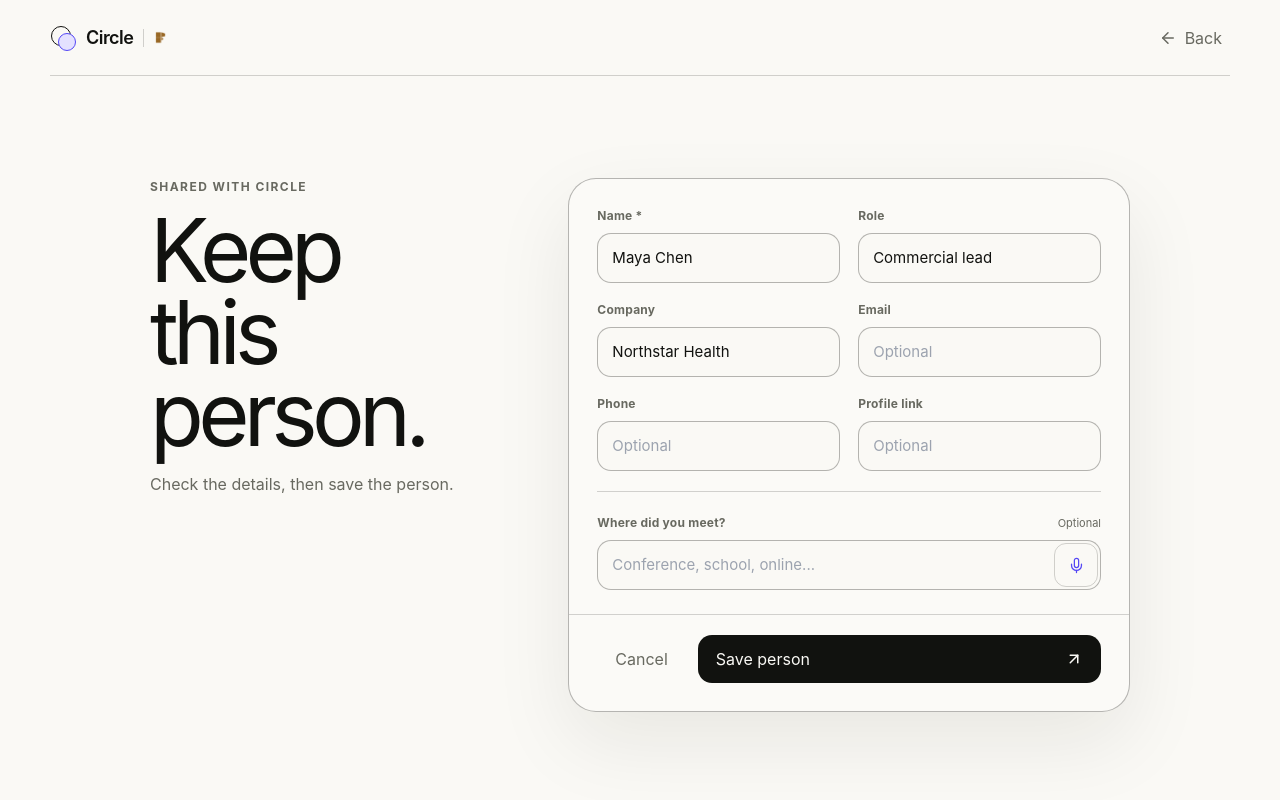
Test case: ShareContact › does not ask the user to save the person twice when meeting context fails
The width and height of the screenshot is (1280, 800).
Expected: the heading "Keep this person." is shown, x1=150 y1=210 x2=466 y2=456
In the field labelled "Where did you meet?": (849, 565) x1=597 y1=540 x2=1101 y2=590, type "HealthTech North"
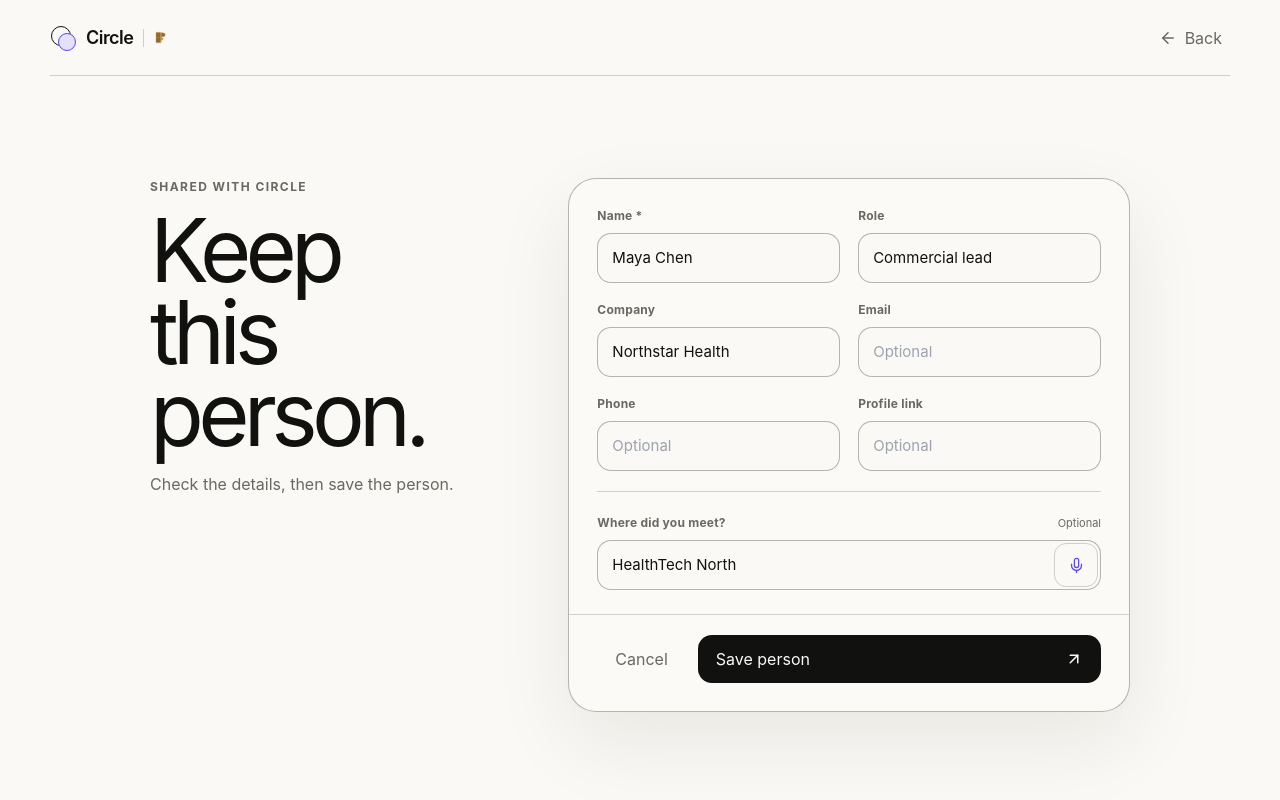
Click the button "Save person": click(763, 659) x1=698 y1=635 x2=1101 y2=683
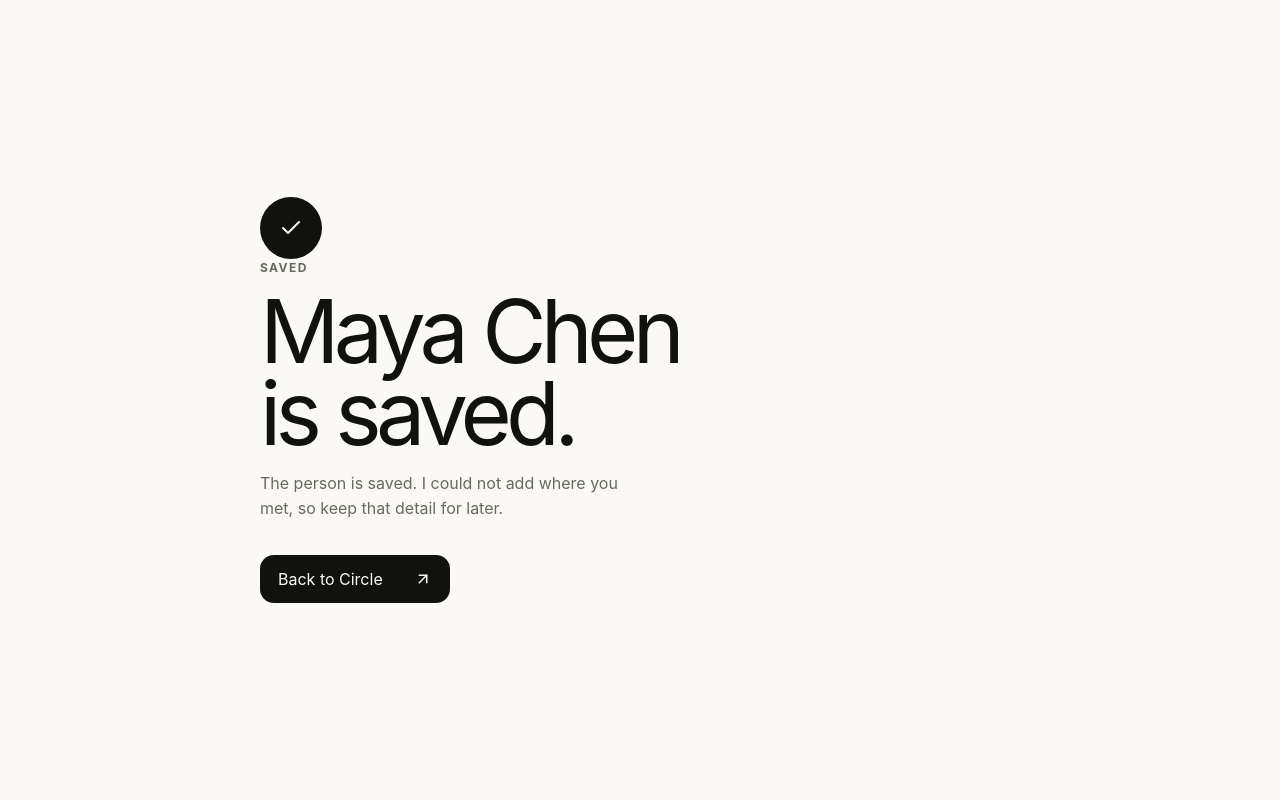
Expected: the heading "Maya Chen is saved." is shown, x1=260 y1=278 x2=679 y2=466
Expected: the text "The person is saved. I could not add where you met, so keep that detail for later." is shown, x1=260 y1=473 x2=618 y2=518
